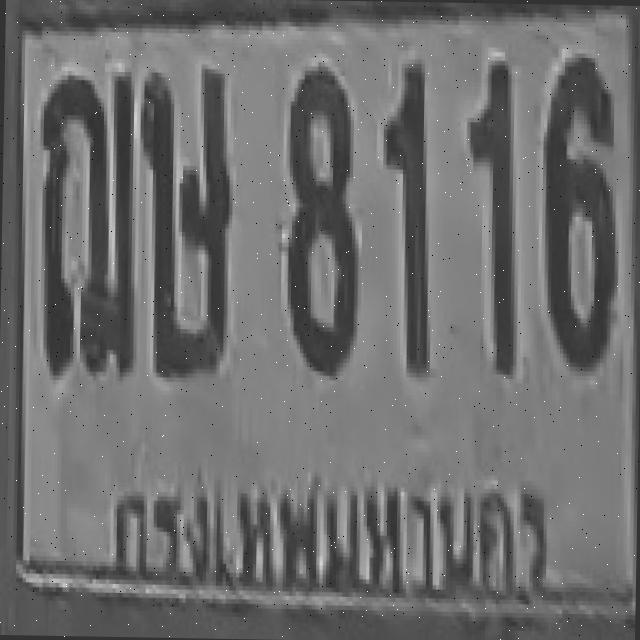1: (378, 61, 429, 313), (466, 60, 516, 312)
21ChorChoe: (34, 73, 139, 374), (36, 99, 137, 374)
48SorRueSi: (138, 65, 232, 376)
6: (540, 52, 614, 367)
8: (282, 68, 361, 374)
Bangkok: (92, 466, 568, 612)
